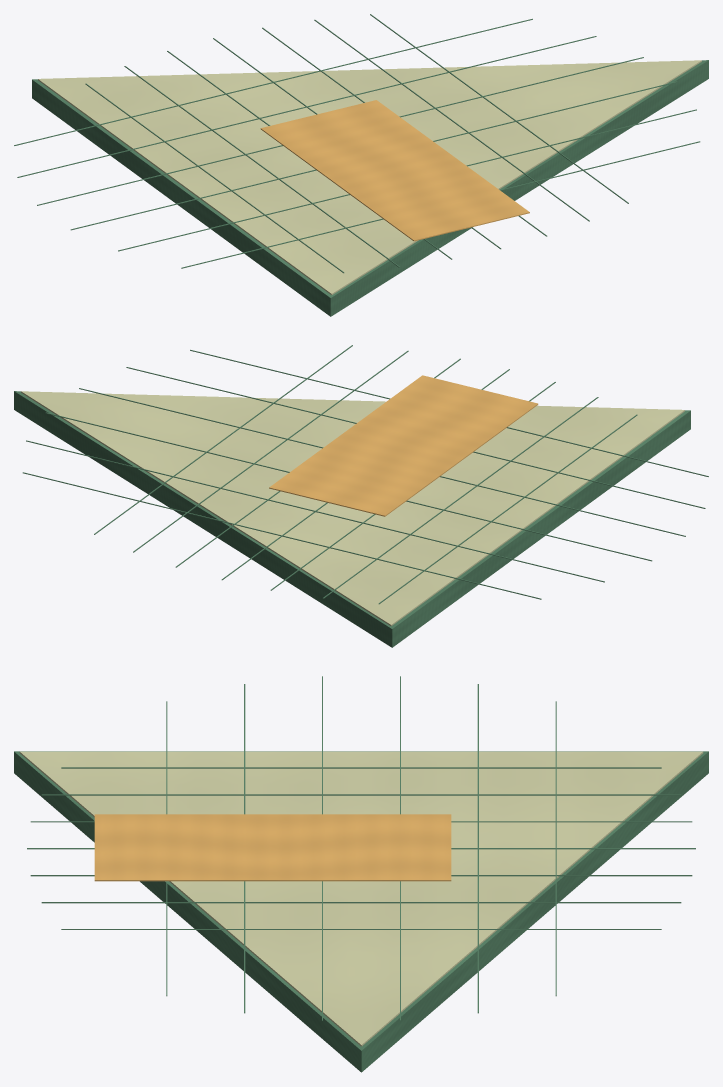
Rendered from atlas100-s004-a07.lod2.glb.
3 renders of one model, top to bottom at view 1: azimuth 30°, elevation 25°; view 2: azimuth 150°, elevation 25°; view 3: azimuth 270°, elevation 25°, orthographic. The views are drawn at different scales.
Visible parts, largest first — view 1: atlas100-s004-a07:part-001, atlas100-s004-a07:part-021, atlas100-s004-a07:part-000, atlas100-s004-a07:part-015, atlas100-s004-a07:part-014, atlas100-s004-a07:part-016, atlas100-s004-a07:part-017, atlas100-s004-a07:part-018, atlas100-s004-a07:part-019, atlas100-s004-a07:part-009, atlas100-s004-a07:part-005, atlas100-s004-a07:part-004 (+1 smaller); view 2: atlas100-s004-a07:part-001, atlas100-s004-a07:part-021, atlas100-s004-a07:part-000, atlas100-s004-a07:part-015, atlas100-s004-a07:part-014, atlas100-s004-a07:part-017, atlas100-s004-a07:part-016, atlas100-s004-a07:part-018, atlas100-s004-a07:part-019, atlas100-s004-a07:part-009, atlas100-s004-a07:part-005, atlas100-s004-a07:part-004 (+1 smaller); view 3: atlas100-s004-a07:part-001, atlas100-s004-a07:part-021, atlas100-s004-a07:part-000, atlas100-s004-a07:part-005, atlas100-s004-a07:part-009, atlas100-s004-a07:part-004, atlas100-s004-a07:part-015, atlas100-s004-a07:part-007.
Boxes of the visible parts, bbox=[...] form: atlas100-s004-a07:part-001: bbox=[38, 60, 701, 295]; atlas100-s004-a07:part-021: bbox=[260, 100, 529, 241]; atlas100-s004-a07:part-000: bbox=[32, 60, 708, 316]; atlas100-s004-a07:part-015: bbox=[17, 36, 596, 177]; atlas100-s004-a07:part-014: bbox=[14, 18, 532, 145]; atlas100-s004-a07:part-016: bbox=[37, 57, 643, 205]; atlas100-s004-a07:part-017: bbox=[70, 81, 677, 230]; atlas100-s004-a07:part-018: bbox=[118, 109, 696, 251]; atlas100-s004-a07:part-019: bbox=[181, 141, 700, 268]; atlas100-s004-a07:part-009: bbox=[314, 19, 589, 221]; atlas100-s004-a07:part-005: bbox=[124, 66, 400, 267]; atlas100-s004-a07:part-004: bbox=[85, 83, 344, 273]; atlas100-s004-a07:part-001: bbox=[21, 391, 684, 626]; atlas100-s004-a07:part-021: bbox=[269, 375, 538, 516]; atlas100-s004-a07:part-000: bbox=[14, 391, 690, 647]; atlas100-s004-a07:part-015: bbox=[26, 440, 604, 582]; atlas100-s004-a07:part-014: bbox=[22, 472, 541, 599]; atlas100-s004-a07:part-017: bbox=[79, 388, 685, 536]; atlas100-s004-a07:part-016: bbox=[45, 412, 652, 561]; atlas100-s004-a07:part-018: bbox=[126, 367, 705, 508]; atlas100-s004-a07:part-019: bbox=[190, 349, 708, 476]; atlas100-s004-a07:part-009: bbox=[133, 350, 408, 552]; atlas100-s004-a07:part-005: bbox=[322, 397, 598, 598]; atlas100-s004-a07:part-004: bbox=[378, 414, 637, 604]; atlas100-s004-a07:part-001: bbox=[19, 751, 703, 1046]; atlas100-s004-a07:part-021: bbox=[94, 814, 451, 881]; atlas100-s004-a07:part-000: bbox=[14, 751, 708, 1072]; atlas100-s004-a07:part-005: bbox=[41, 794, 681, 795]; atlas100-s004-a07:part-009: bbox=[41, 902, 681, 903]; atlas100-s004-a07:part-004: bbox=[61, 767, 661, 768]; atlas100-s004-a07:part-015: bbox=[477, 684, 478, 1013]; atlas100-s004-a07:part-007: bbox=[27, 848, 695, 849].
Bounding box in the file's own units: 12.43 × 0.404 × 9.82.
Materials: 3 (3 with a texture image).
